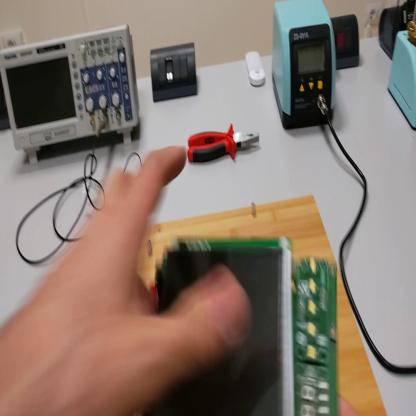hand: (2, 142, 252, 416), (338, 394, 362, 416)
low voltage board: (157, 230, 339, 416)
oscilloscope: (2, 20, 141, 166)
pliers: (187, 126, 262, 168)
socket: (379, 2, 416, 61), (330, 12, 363, 72), (2, 87, 12, 132)
welder base: (386, 16, 416, 132)
welder station: (272, 2, 337, 132)
working area: (136, 197, 387, 413)
